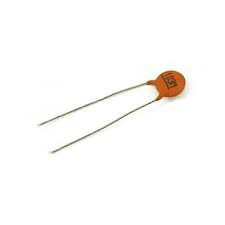ceramic capacitor: (92, 36, 213, 159)
